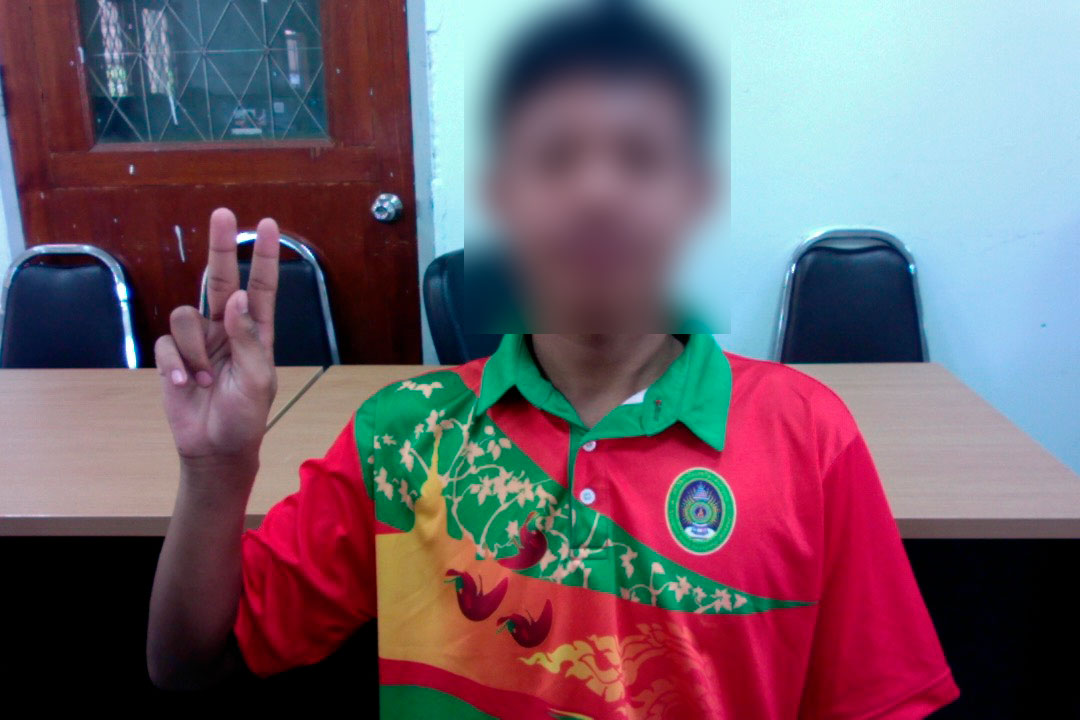ko: (148, 201, 292, 471)
